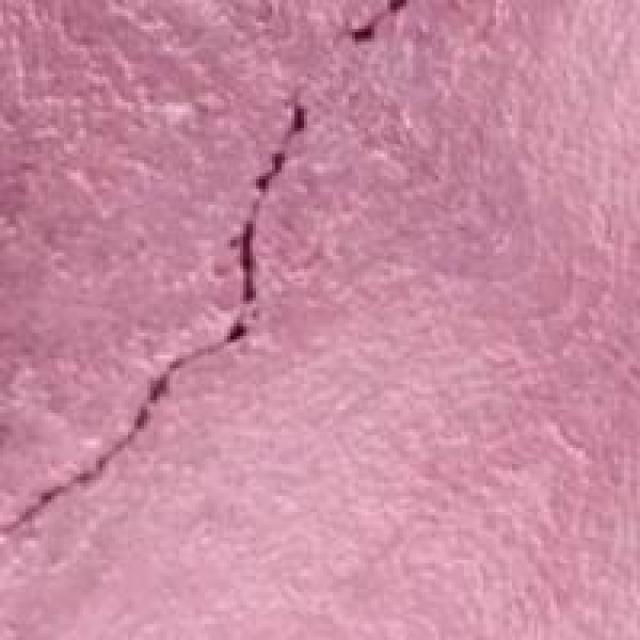crack: (6, 0, 422, 547)
